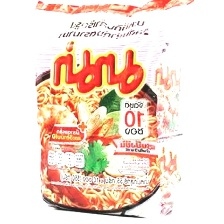snack: (23, 0, 209, 224)
